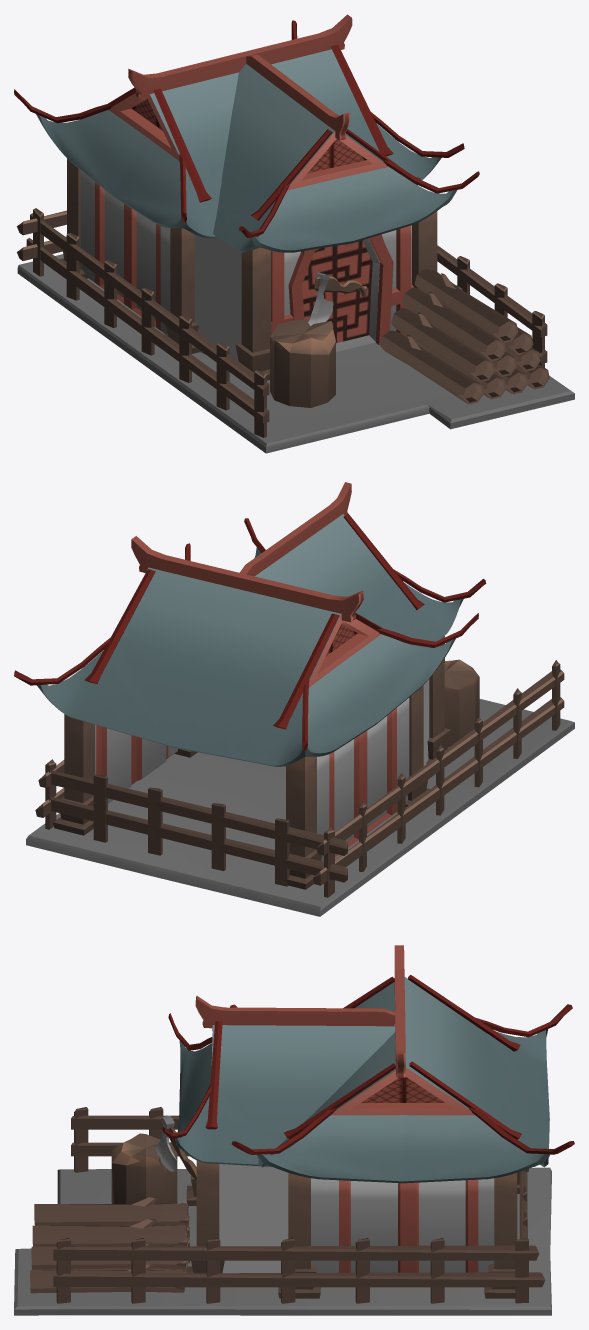
The model's file is sawmill_3lvl.fbx.
The picture shows the model from 3 angles, top to bottom: view 1: azimuth 30°, elevation 25°; view 2: azimuth 150°, elevation 25°; view 3: azimuth 270°, elevation 25°; orthographic projection. The views are drawn at different scales.
Visible parts, largest first — view 1: sawmil_3lvl; view 2: sawmil_3lvl; view 3: sawmil_3lvl.
Boxes of the visible parts, x1,y1,x2,y2 form: sawmil_3lvl: (14, 14, 574, 453); sawmil_3lvl: (14, 482, 574, 916); sawmil_3lvl: (14, 945, 574, 1315).
Size of the model in its own units: 4.18 by 3.38 by 6.75.
